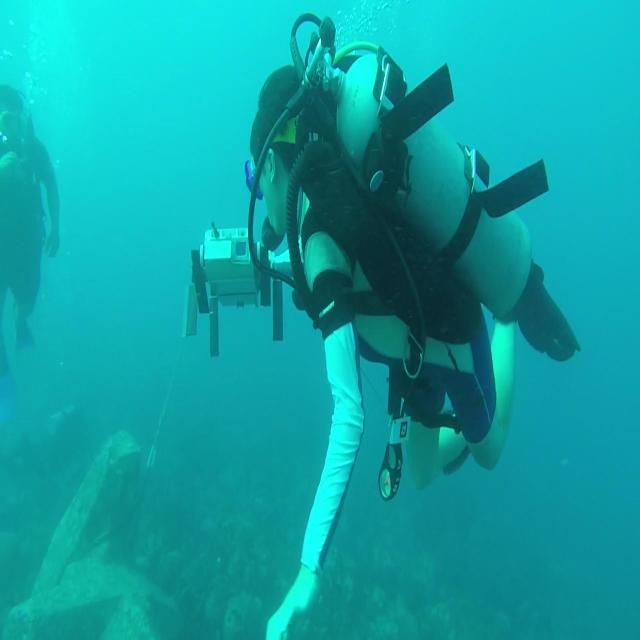human: (244, 43, 581, 636), (0, 63, 63, 397)
